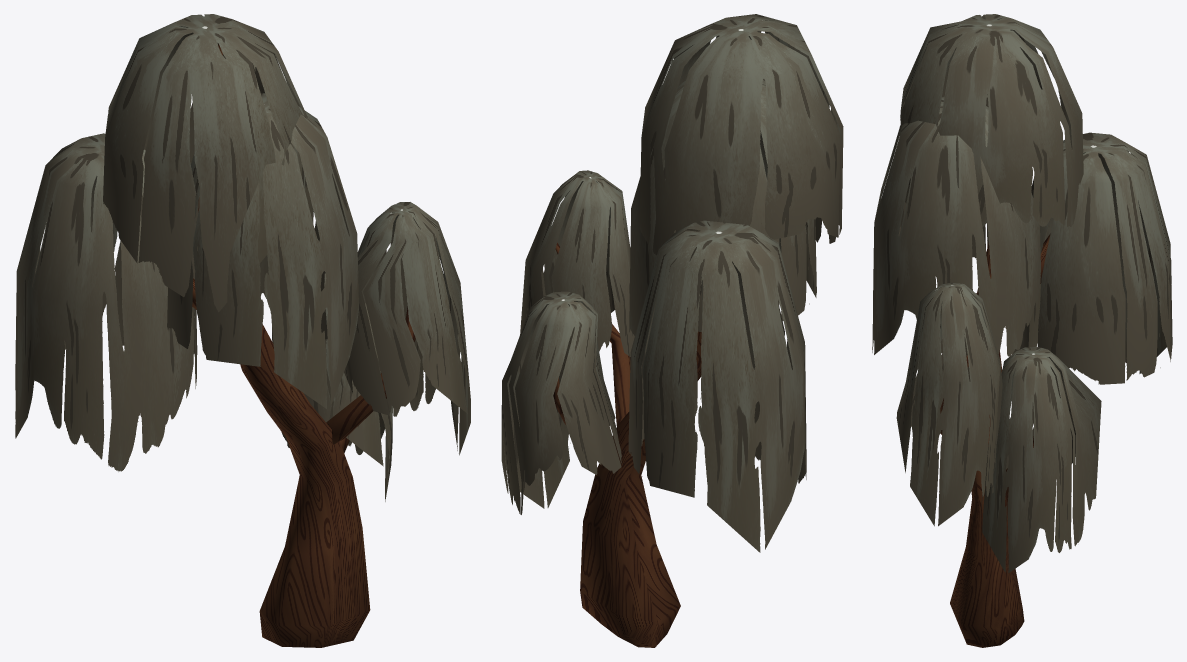
File: Tree_Willow1.fbx
3 views of the same model, side by side, from view 1: azimuth 30°, elevation 25°; view 2: azimuth 150°, elevation 25°; view 3: azimuth 270°, elevation 25° (orthographic). The views are drawn at different scales.
Parts seen in each view (by area): view 1: Cube.098; view 2: Cube.098; view 3: Cube.098.
Boxes of the visible parts, <box> form: Cube.098: <box>15,14,470,647</box>; Cube.098: <box>501,14,843,647</box>; Cube.098: <box>872,14,1172,647</box>.
Size of the model in its own units: 3803 by 6545 by 3166.
